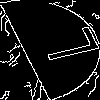L: (25, 25, 100, 67)
